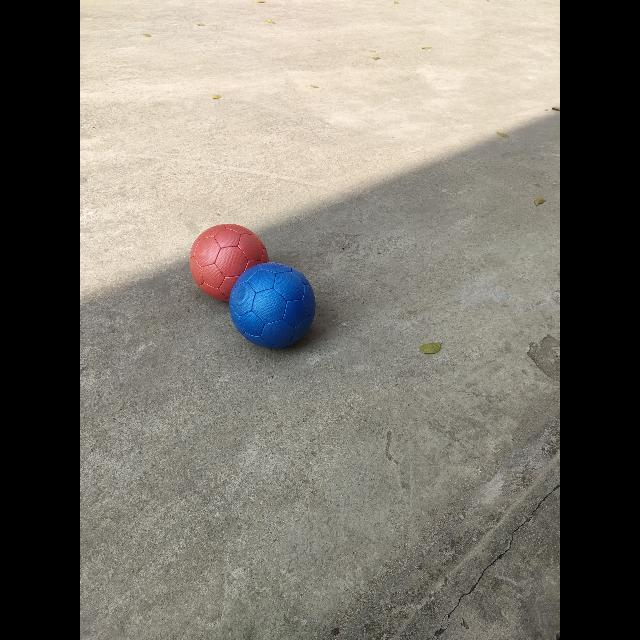B: (230, 262, 315, 349)
R: (190, 224, 269, 301)
